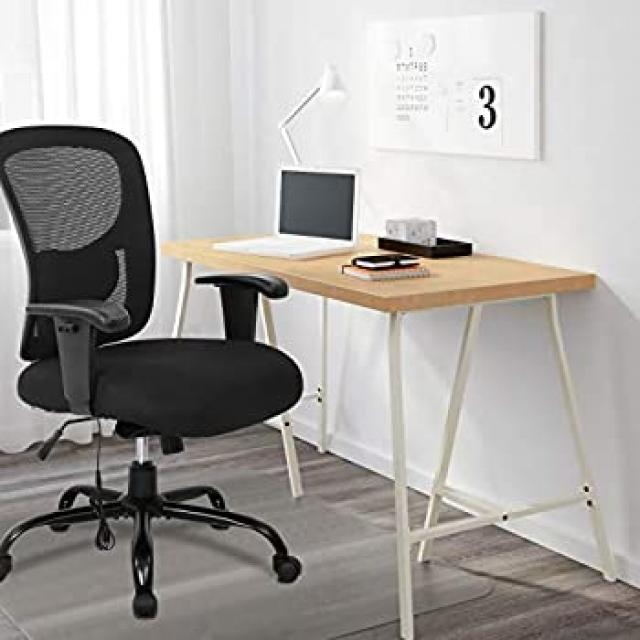chair: (0, 124, 304, 618)
